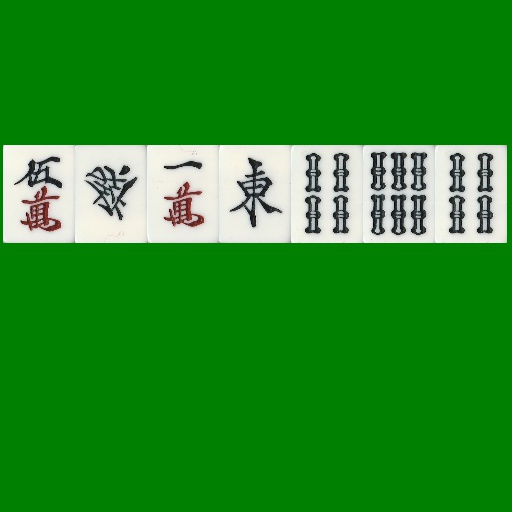1m: (147, 145, 219, 243)
4s: (291, 145, 363, 243), (435, 145, 507, 243)
5m: (3, 145, 75, 243)
6s: (363, 145, 435, 243)
east: (219, 145, 291, 243)
hatsu: (75, 145, 147, 243)
